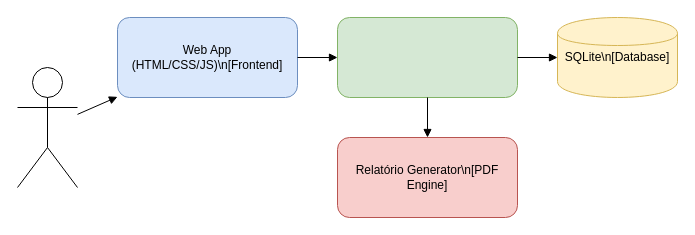
Some shapes in this 695 by 235 pixel diagram are drawn without their labels. The shapes that lost their labels are listed below. From the top down, each one's centre as x and y in pixels, then its label:
At [427,57]: "FastAPI\n[Backend / API]".
At [47,127]: "Usuário".
